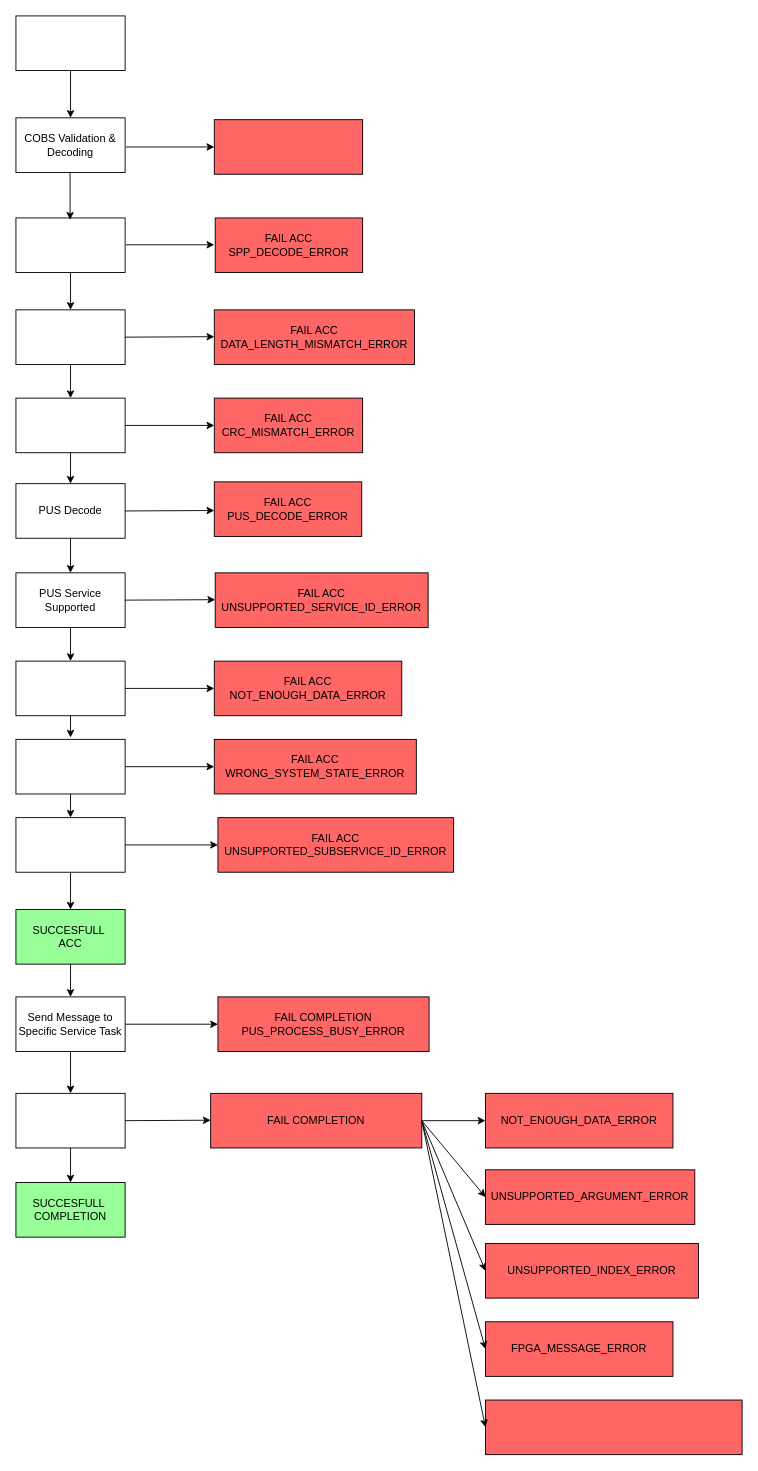
The diagram is 758 pixels wide and 1471 high, and some of its shapes have lost their labels. Here are the shapes that lost their labels. From the top down, the centre of each, then its label:
At pixel 70 43: "Incoming UART message".
At pixel 288 146: "FAIL ACC COBS_ERROR".
At pixel 70 245: "SPP Header Decoding".
At pixel 70 336: "Correct Length of received message".
At pixel 70 425: "Checksum Check".
At pixel 70 688: "Enough Data for PUS Service".
At pixel 70 766: "Correct Global State".
At pixel 70 844: "PUS Subservice Supported".
At pixel 70 1120: "Successfully Execute Service".
At pixel 613 1427: "NULL_POINTER_DEREFRERENCING_ERROR".
